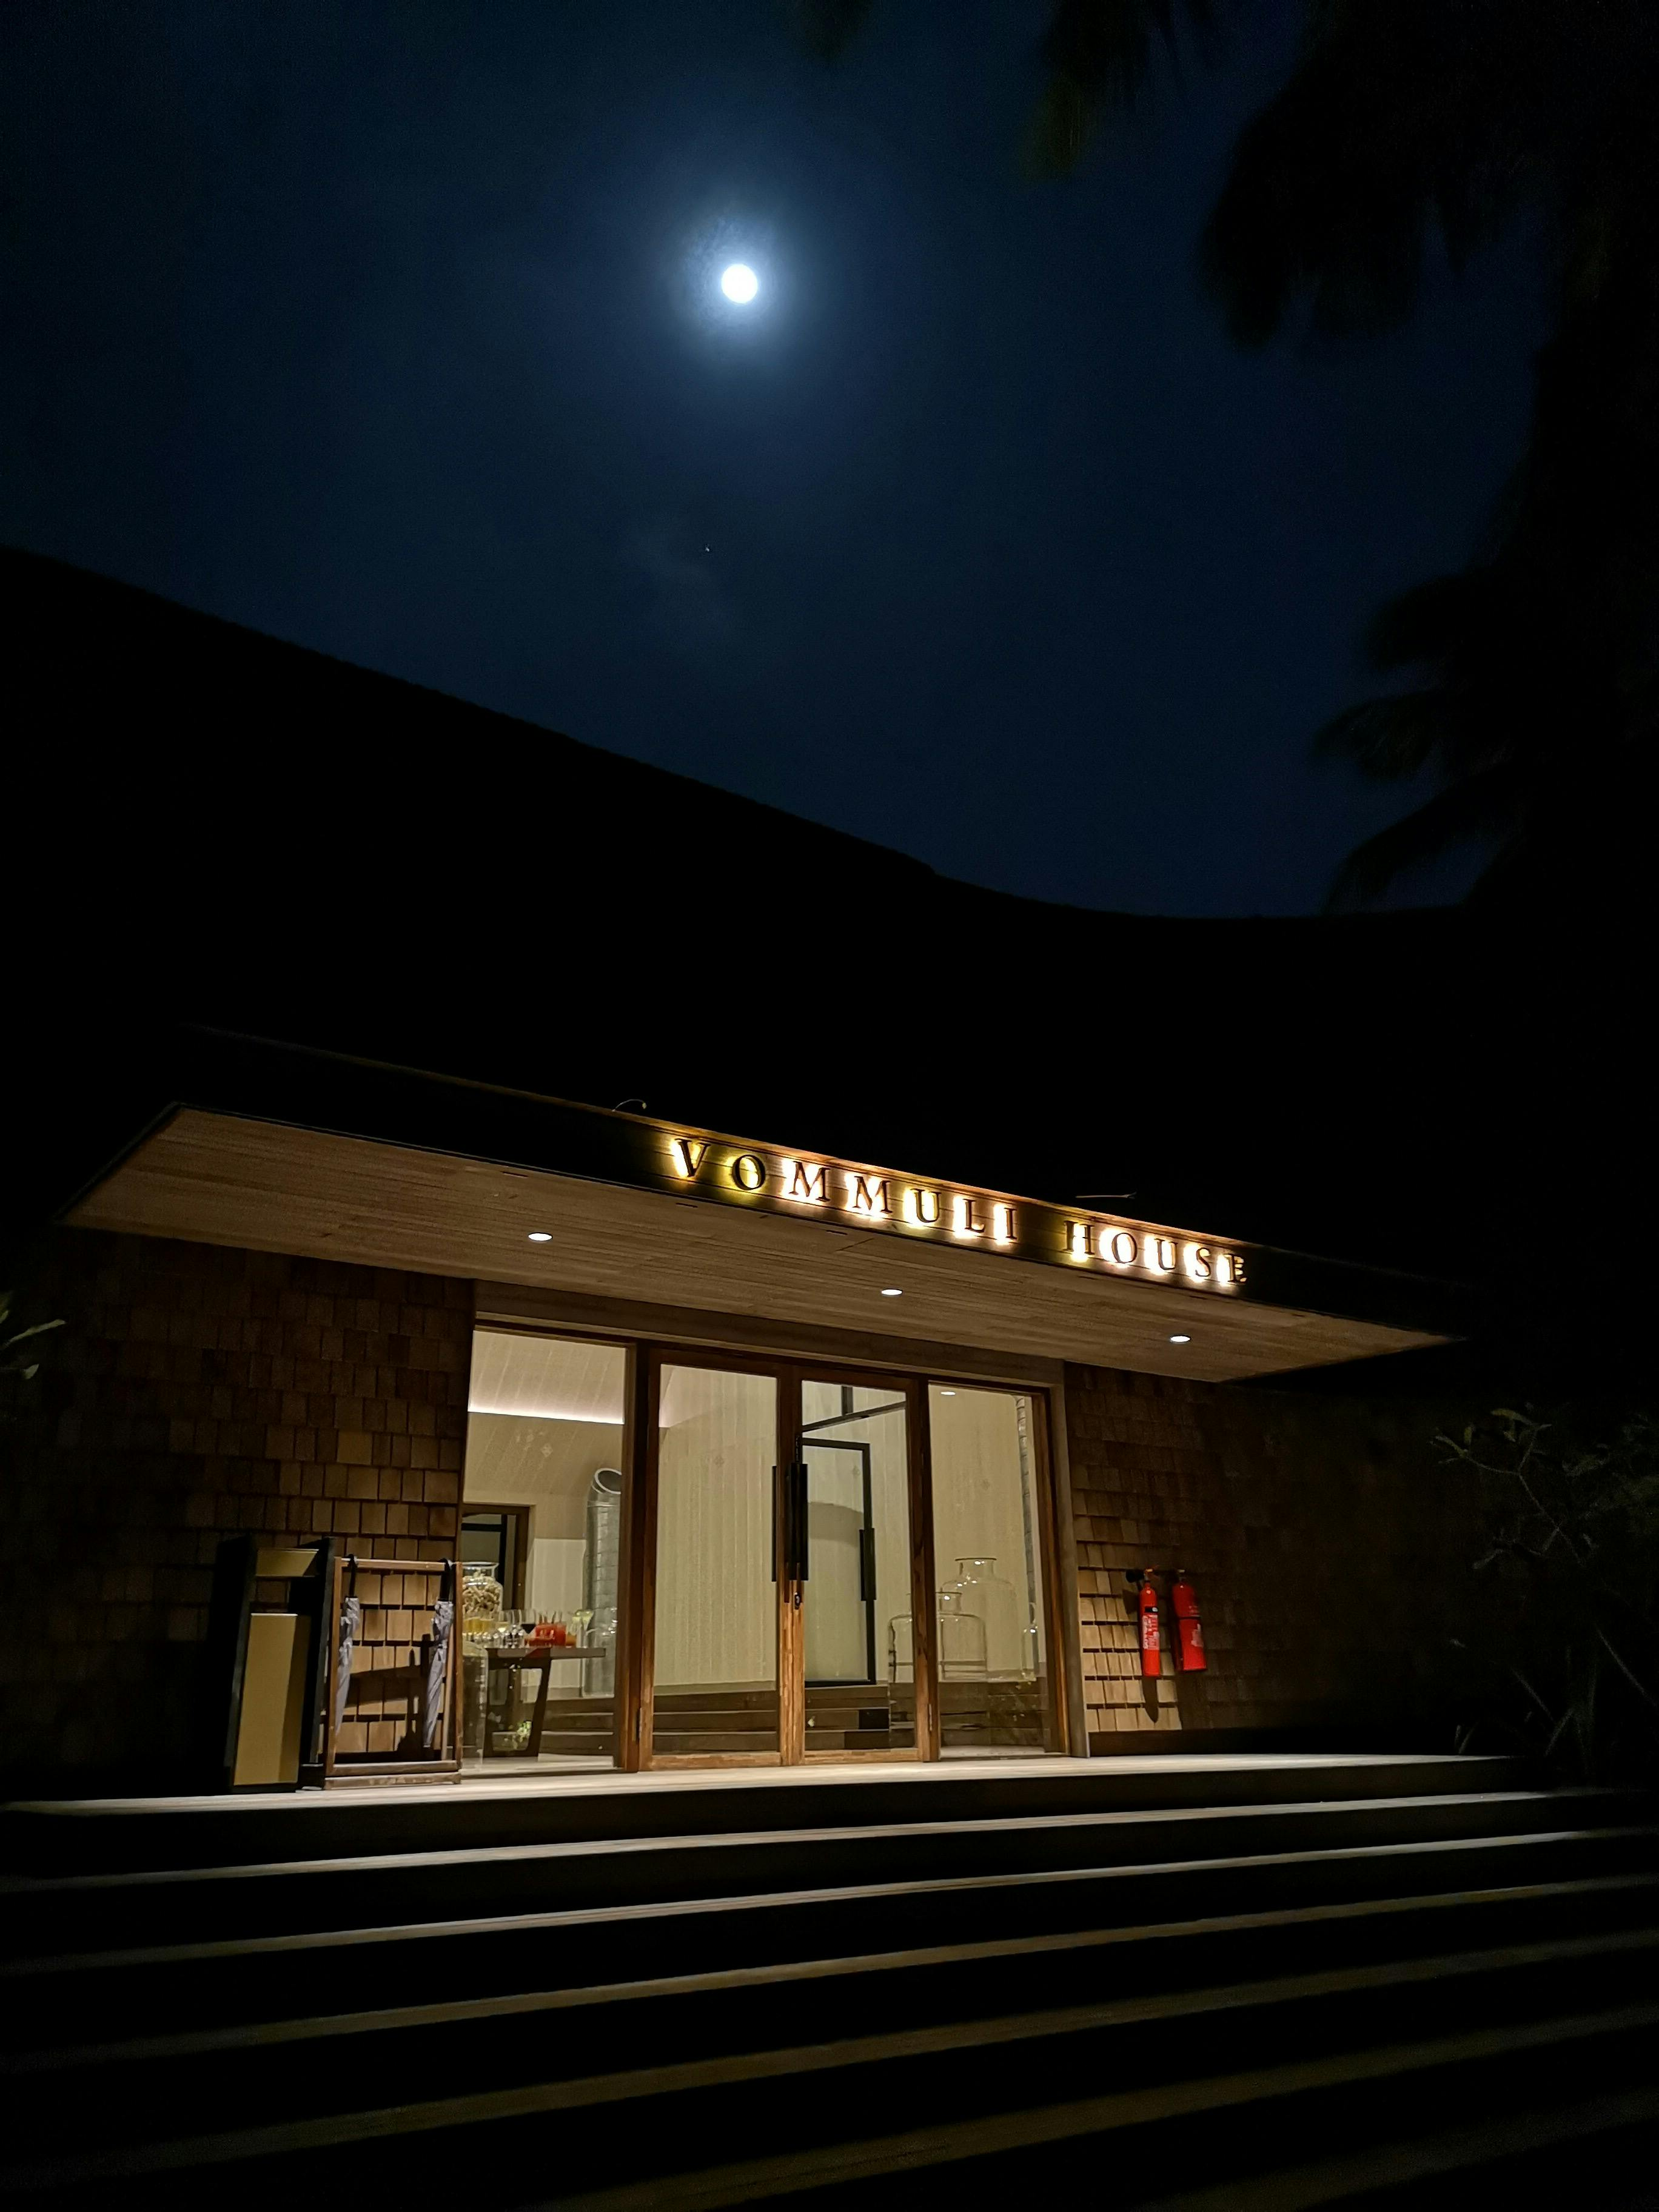extintor: (1168, 1561, 1218, 1683), (1131, 1562, 1171, 1688)
